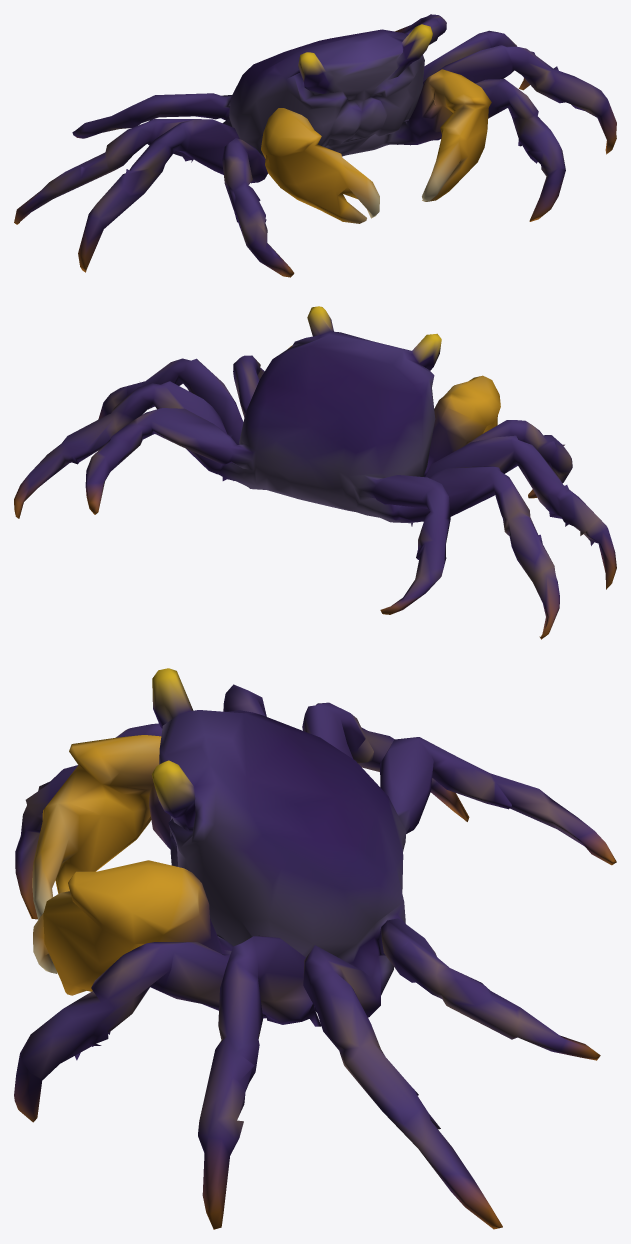
Rendered from crab.lo.glb.
3 views of the same model, one above another, from view 1: azimuth 30°, elevation 25°; view 2: azimuth 150°, elevation 25°; view 3: azimuth 270°, elevation 25° (orthographic). The views are drawn at different scales.
Parts seen in each view (by area): view 1: crab; view 2: crab; view 3: crab.
Boxes of the visible parts, x1=… form: crab: x1=14, y1=14, x2=616, y2=277; crab: x1=14, y1=306, x2=616, y2=639; crab: x1=14, y1=668, x2=616, y2=1229.
Bounding box in the file's own units: 0.0643 × 0.0222 × 0.0387.
